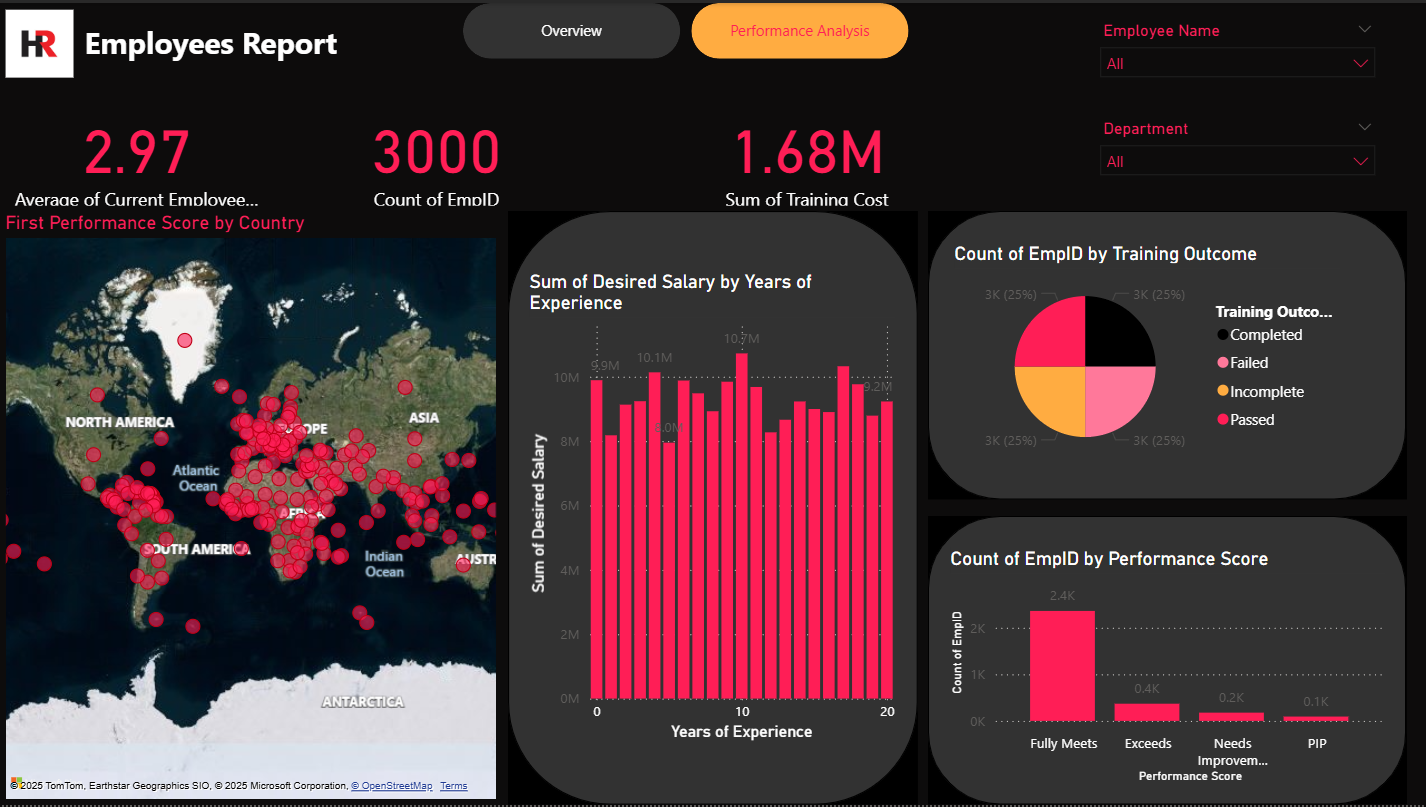

What the dashboard file says about the page in this screenshot:
{"tool":"powerbi","page":{"name":"Performance Analysis","canvas":[1280,720],"ordinal":1},"visuals":[{"type":"textbox","box":[70.9,11.7,252.3,61],"z":0},{"type":"image","box":[0,0,70.9,72.7],"z":1000},{"type":"shape","box":[833.1,186.7,430,259.5],"z":2000},{"type":"shape","box":[833.1,460.5,430,259.5],"z":3000},{"type":"columnChart","fields":{"Category":["employee_data.Performance Score"],"Y":["employee_data.EmpID"]},"box":[848.4,488.4,399.5,216.4],"z":4000},{"type":"pieChart","fields":{"Y":["employee_data.EmpID"],"Category":["training_and_development_data.Training Outcome"]},"box":[852,214.6,355.5,204.7],"z":5000},{"type":"card","fields":{"Values":["employee_data.EmpID"]},"box":[273.8,88,236.1,98.8],"z":6000},{"type":"card","fields":{"Values":["employee_data.Current Employee Rating"]},"box":[8.1,88,228.9,98.8],"z":7000},{"type":"slicer","fields":{"Values":["employee_data.FirstName"]},"box":[977.7,11.7,266.6,71.8],"z":8000},{"type":"slicer","fields":{"Values":["employee_data.DepartmentType"]},"box":[977.7,99.7,266.6,71.8],"z":9000},{"type":"card","fields":{"Values":["training_and_development_data.Training Cost"]},"box":[574.6,88,299.9,98.8],"z":10000},{"type":"shape","box":[456.1,186.7,368.1,533.3],"z":11000},{"type":"map","fields":{"Category":["recruitment_data.Country"]},"box":[0,186.7,449.8,533.3],"z":12000},{"type":"columnChart","fields":{"Category":["recruitment_data.Years of Experience"],"Y":["recruitment_data.Desired Salary"]},"box":[470.4,239.7,338.5,428.2],"z":13000},{"type":"pageNavigator","box":[415.7,0,400.4,50.3],"z":13001}]}

Visuals, with their boxes in screenshot pixels (x1, y1, x2, y2), scaled from the page's 1280x720 canvas onto the 1426x807 screenshot:
textbox: pyautogui.locateOnScreen(79, 13, 360, 81)
image: pyautogui.locateOnScreen(0, 0, 79, 81)
shape: pyautogui.locateOnScreen(928, 209, 1407, 500)
shape: pyautogui.locateOnScreen(928, 516, 1407, 806)
columnChart - employee_data.Performance Score x employee_data.EmpID: pyautogui.locateOnScreen(945, 547, 1390, 790)
pieChart - employee_data.EmpID x training_and_development_data.Training Outcome: pyautogui.locateOnScreen(949, 241, 1345, 470)
card - employee_data.EmpID: pyautogui.locateOnScreen(305, 99, 568, 209)
card - employee_data.Current Employee Rating: pyautogui.locateOnScreen(9, 99, 264, 209)
slicer - employee_data.FirstName: pyautogui.locateOnScreen(1089, 13, 1386, 94)
slicer - employee_data.DepartmentType: pyautogui.locateOnScreen(1089, 112, 1386, 192)
card - training_and_development_data.Training Cost: pyautogui.locateOnScreen(640, 99, 974, 209)
shape: pyautogui.locateOnScreen(508, 209, 918, 806)
map - recruitment_data.Country: pyautogui.locateOnScreen(0, 209, 501, 806)
columnChart - recruitment_data.Years of Experience x recruitment_data.Desired Salary: pyautogui.locateOnScreen(524, 269, 901, 749)
pageNavigator: pyautogui.locateOnScreen(463, 0, 909, 56)
